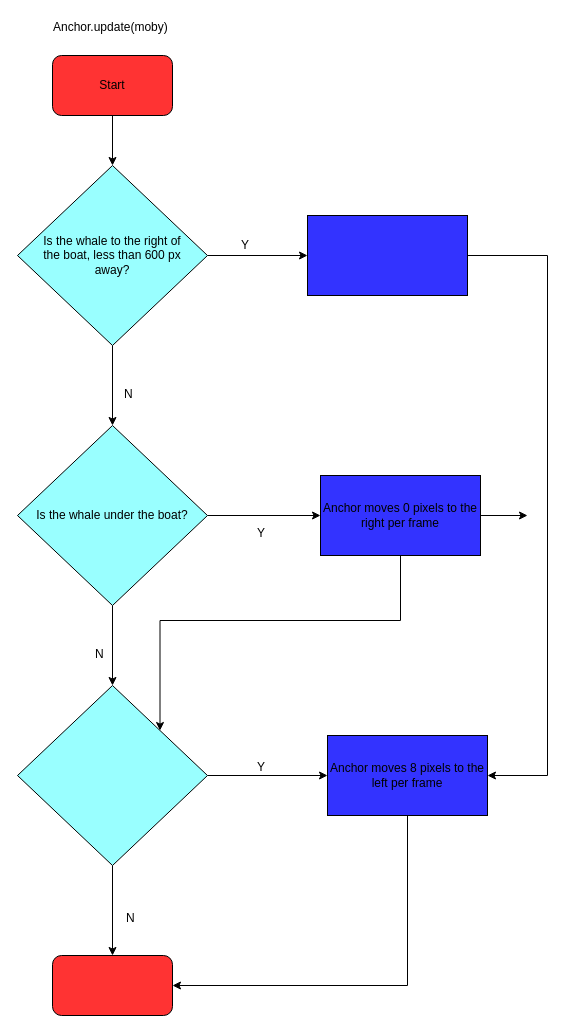
The diagram is 573 pixels wide and 1033 high, and some of its shapes have lost their labels. Each missing label, with the box of its shape:
Anchor moves 8 pixels to the right per frame: (306, 214, 468, 296)
Is the whale to the left of the boat, less than 600 px away?: (16, 684, 208, 866)
Stop: (52, 954, 172, 1016)
